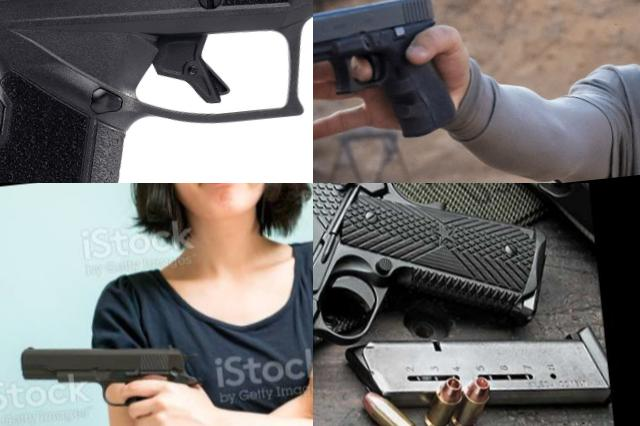handgun: (313, 183, 573, 426), (0, 0, 313, 183), (313, 0, 462, 155), (14, 323, 216, 426)
